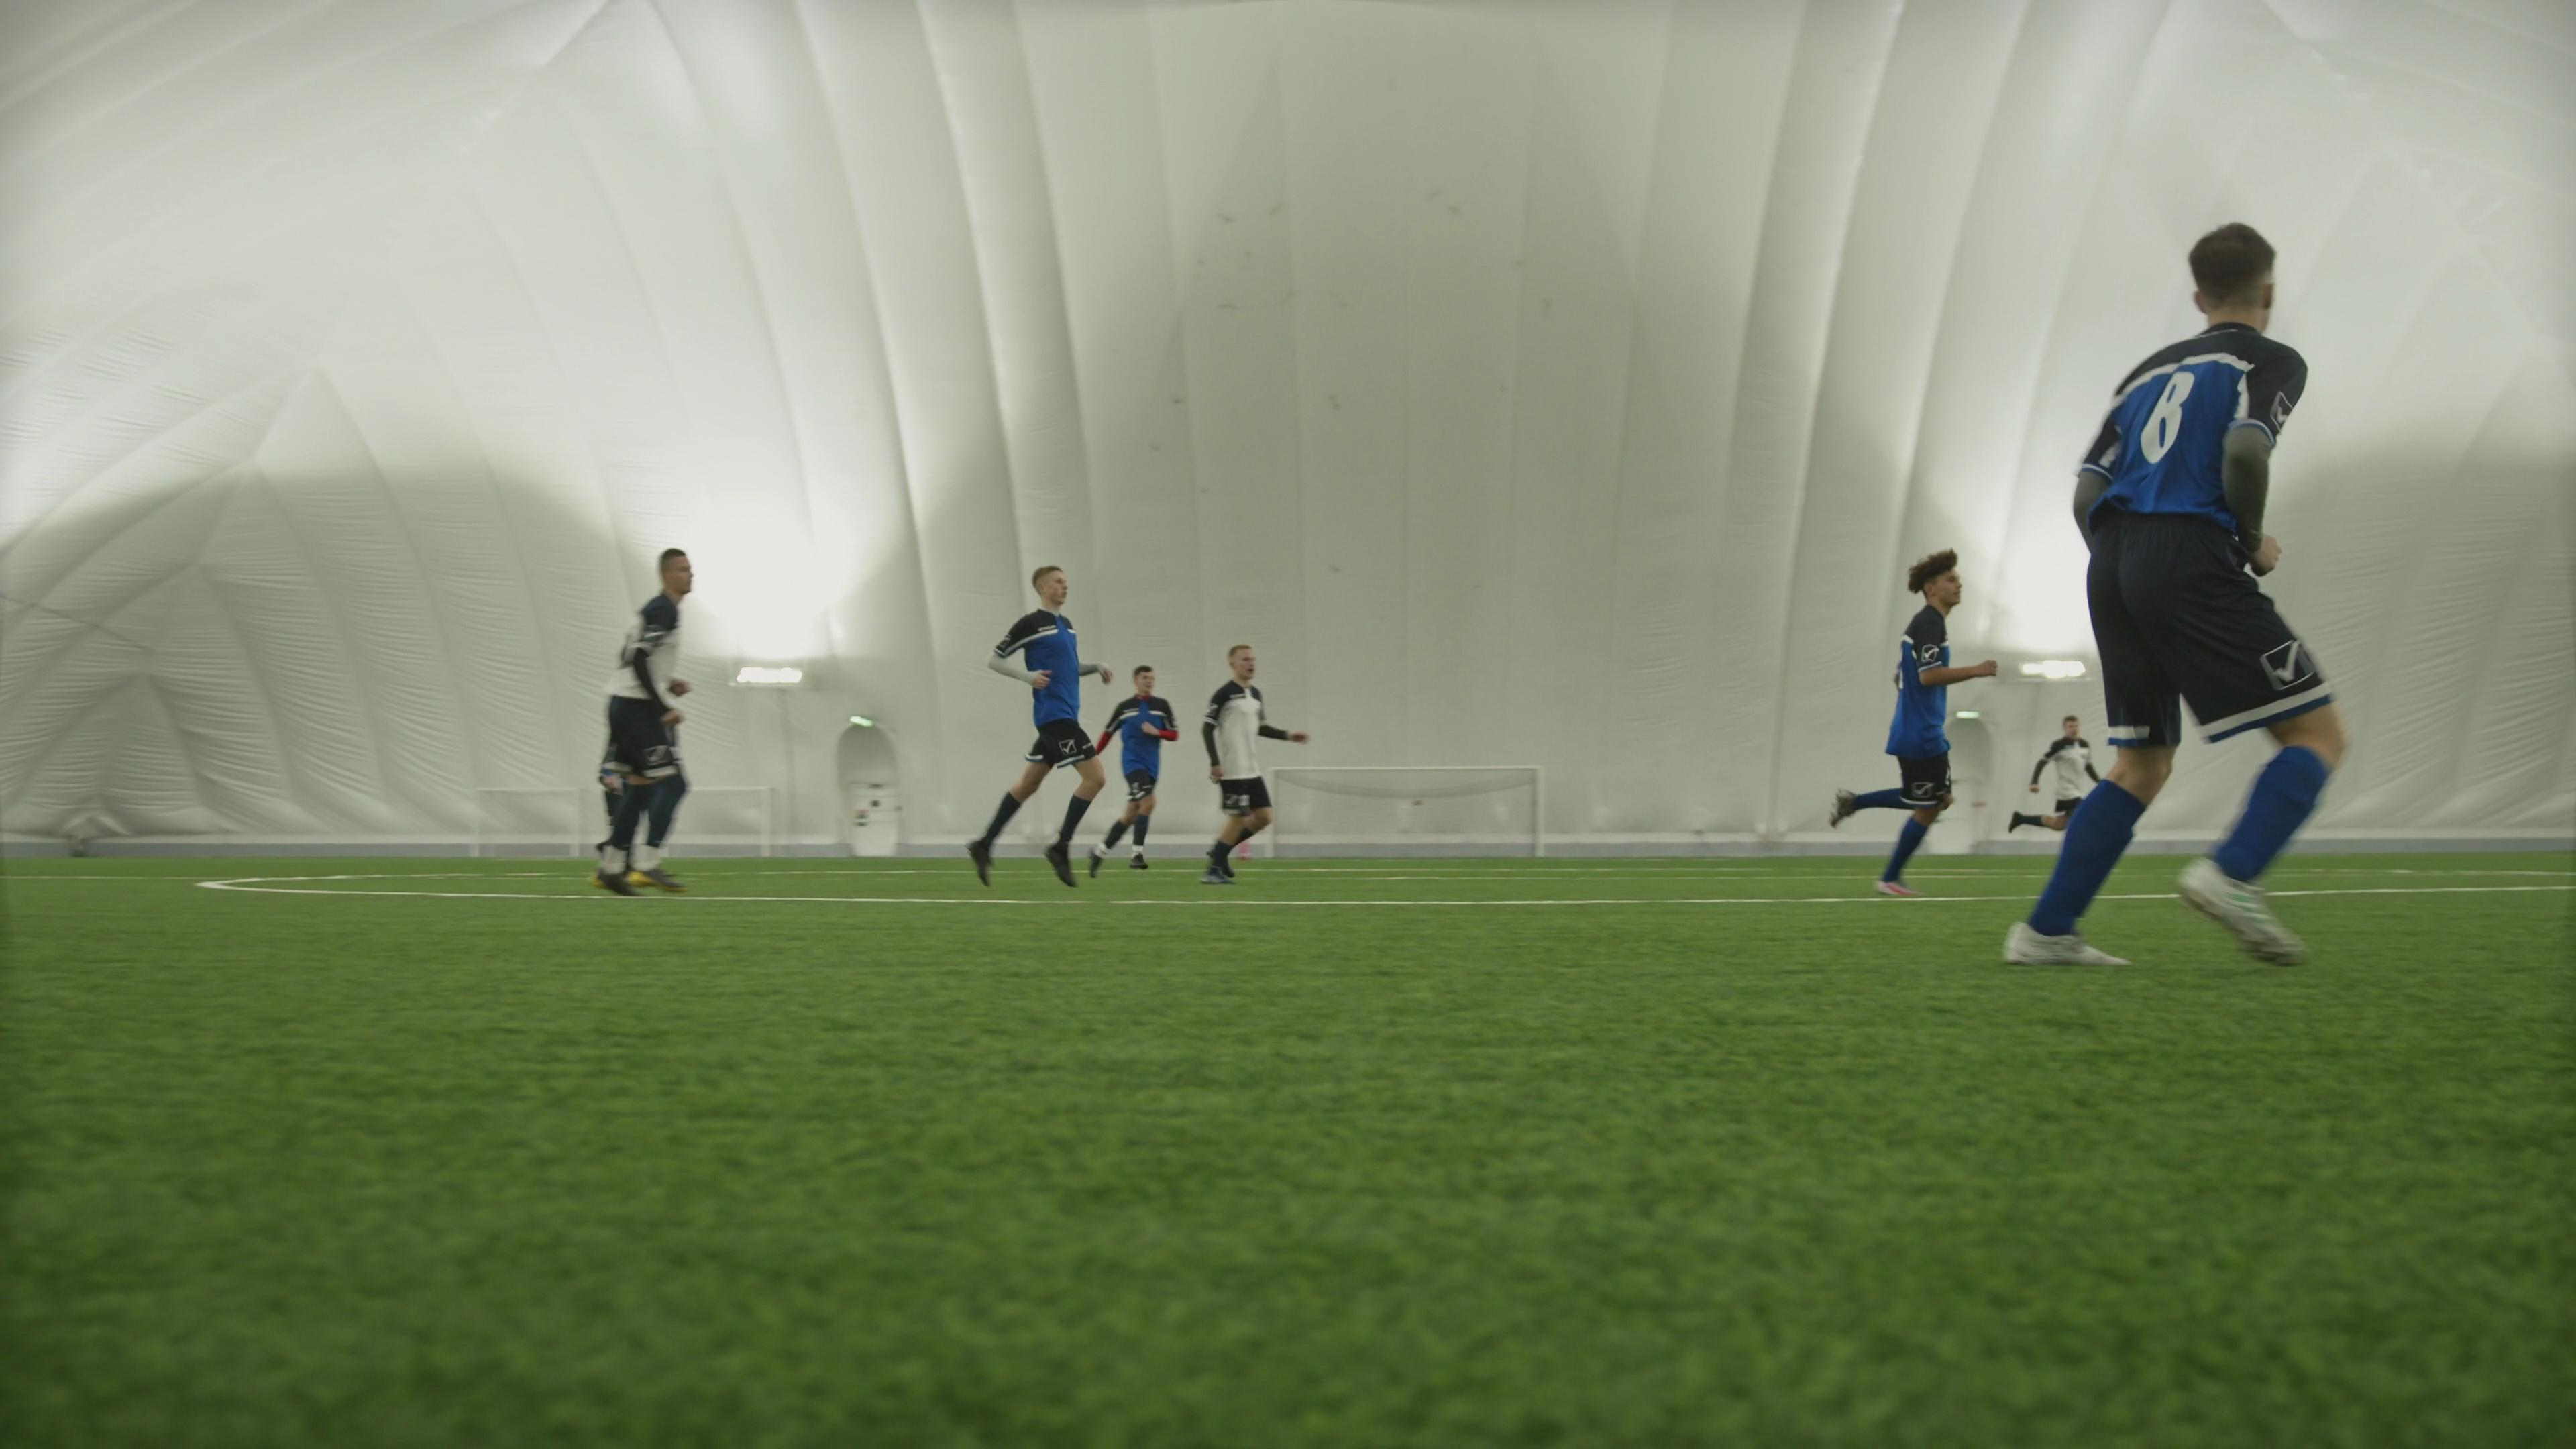team1: (2003, 223, 2346, 975), (1838, 554, 1996, 899), (966, 564, 1090, 886), (1077, 662, 1180, 878)
team2: (596, 545, 697, 893), (1201, 640, 1313, 883), (2013, 713, 2102, 828)
